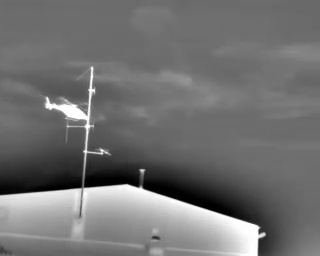HELICOPTER: (41, 90, 98, 132)
